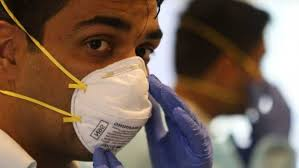masked: (14, 1, 165, 147)
